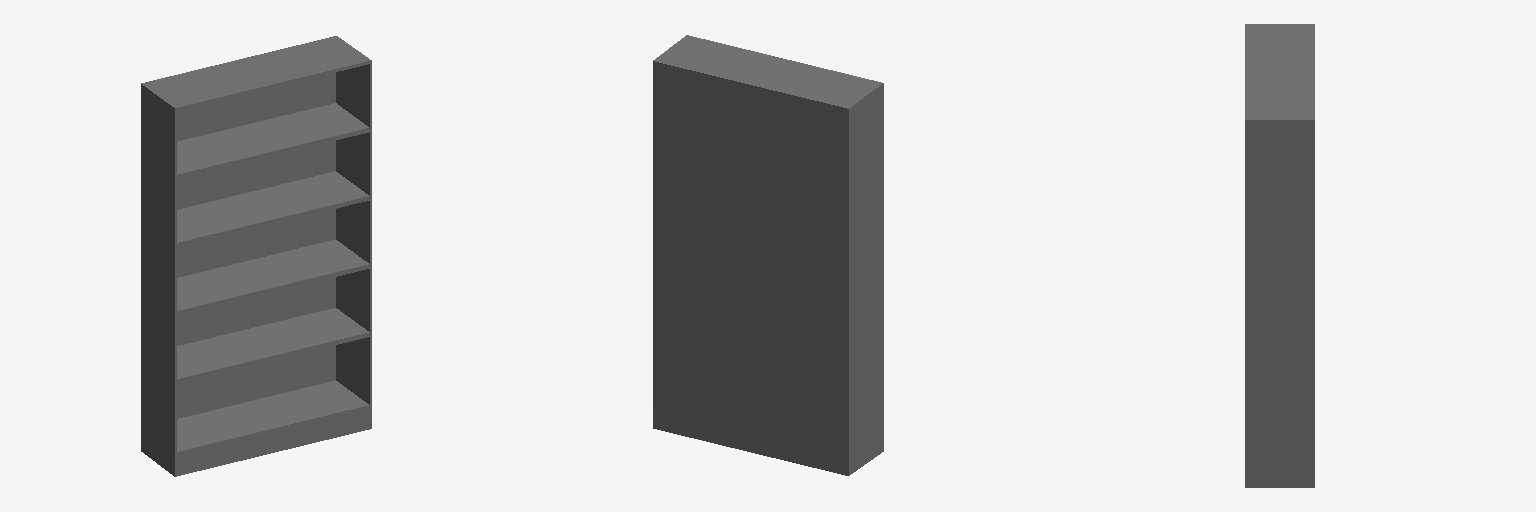
Rendered from Bookself.obj.
3 views of the same model, side by side, from view 1: azimuth 30°, elevation 25°; view 2: azimuth 150°, elevation 25°; view 3: azimuth 270°, elevation 25° (orthographic).
Visible parts, largest first — view 1: bookself; view 2: bookself; view 3: bookself.
Boxes of the visible parts, box(x1,y1,x2,y2) form: bookself: box(141, 36, 371, 476); bookself: box(653, 35, 883, 475); bookself: box(1245, 24, 1314, 487).
Size of the model in its own units: 1.01 by 1.8 by 0.3073.